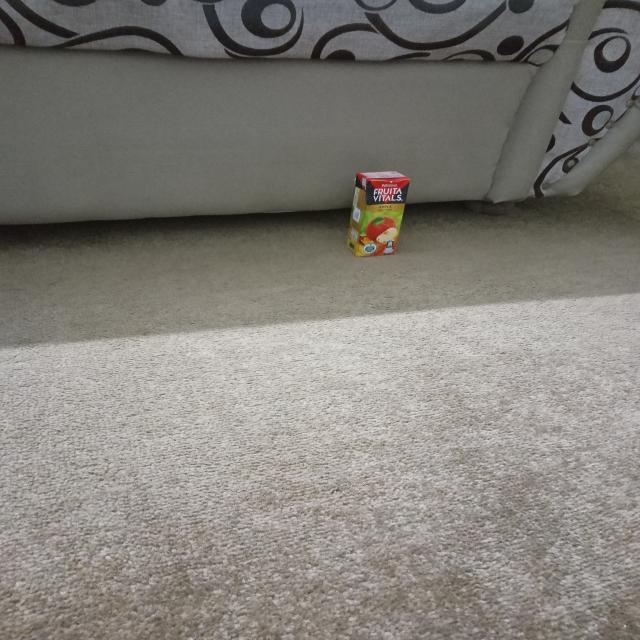Plastic: (343, 166, 408, 260)
